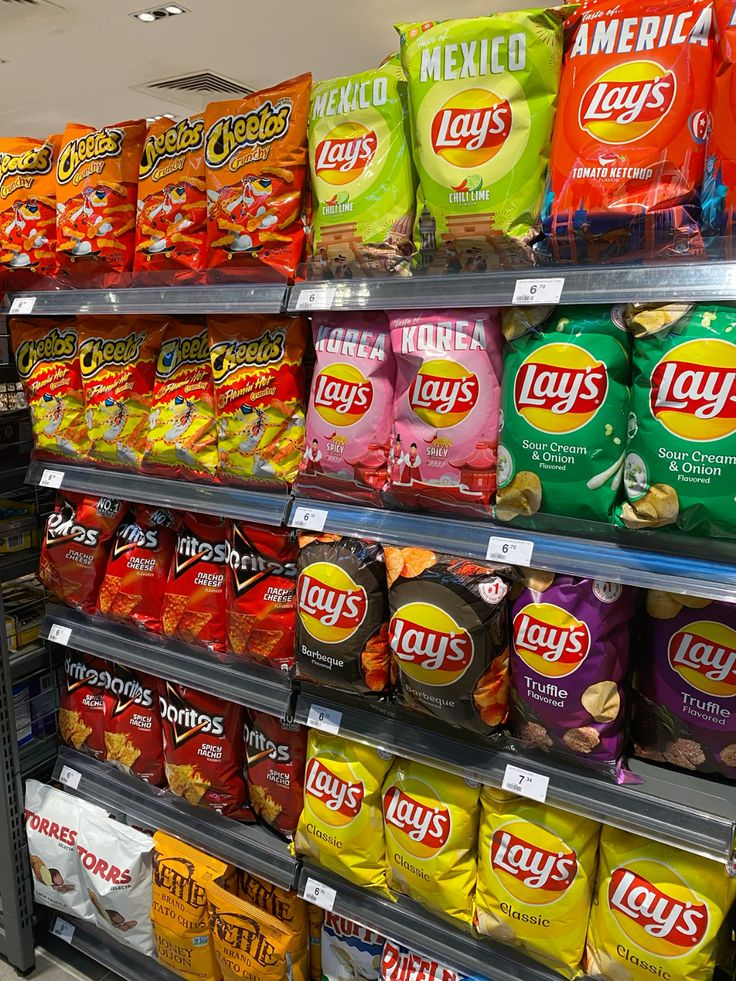snacks: (543, 0, 713, 261), (396, 9, 561, 270), (496, 305, 628, 519), (511, 575, 633, 762), (302, 313, 395, 495)
